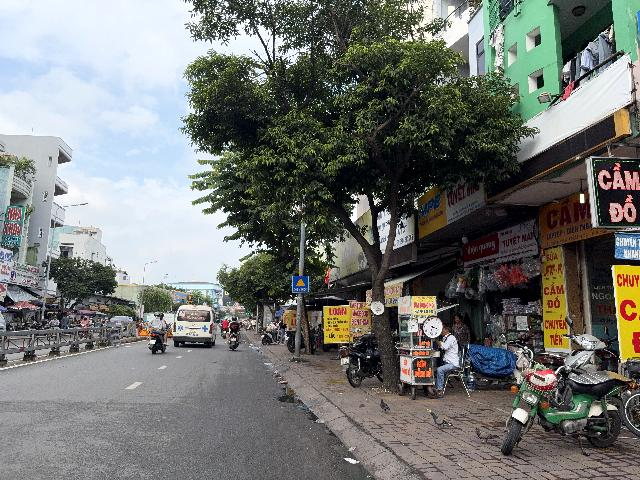khu-vuc-cho-phia-truoc: (292, 276, 309, 293)
